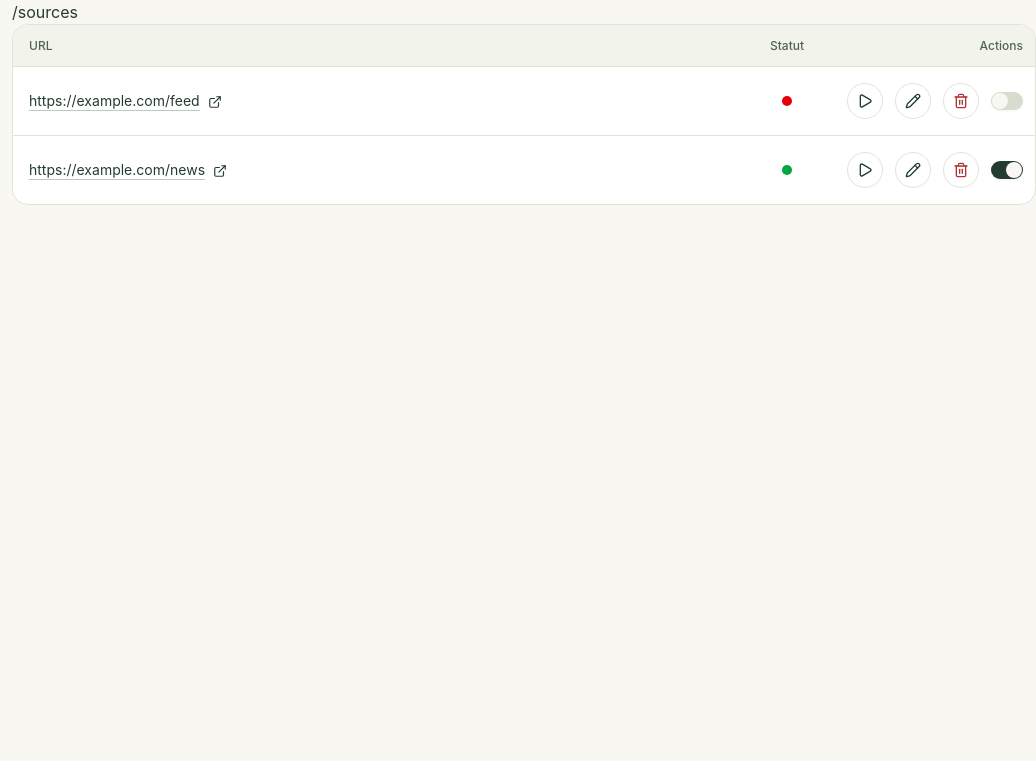
Test: edits a scraping URL without replacing its extraction configuration
Click the link named "Modifier https://example.com/news" at (913, 170), box [895,152,931,188]
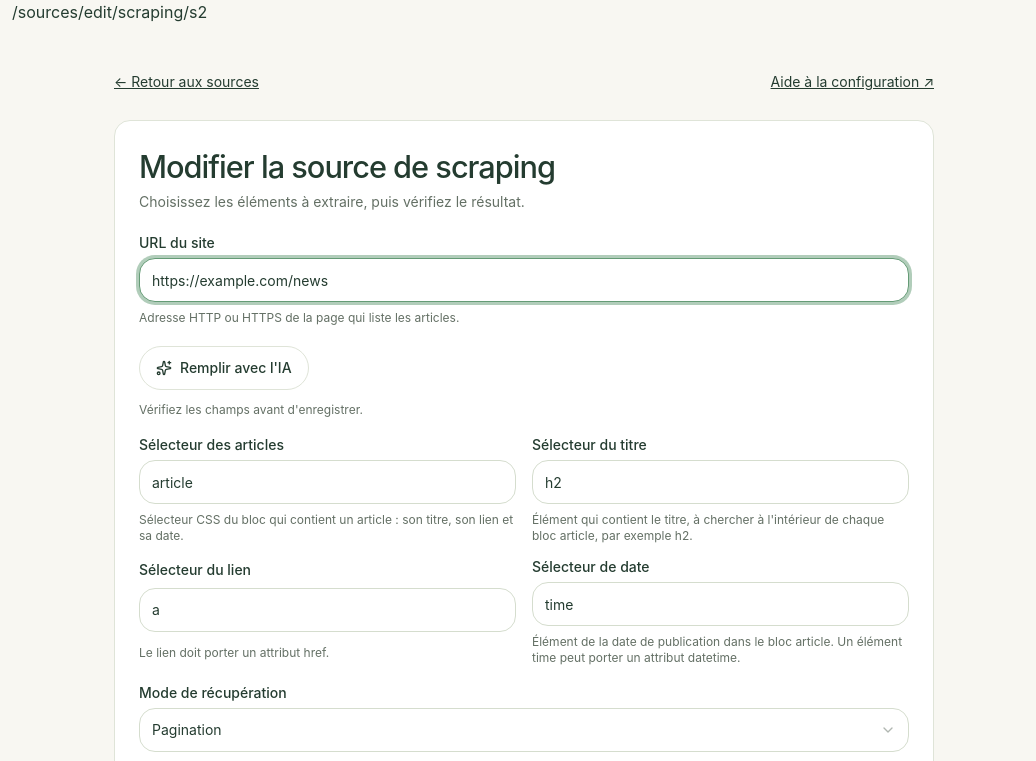
expect the field labelled "URL du site" holds "https://example.com/news": met
expect the text with test id "location" reads "/sources/edit/scraping/s2": met, box [12,2,207,22]
Replace the text in the field labelled "URL du site" with "https://example.com/new-news" at (524, 280), box [139,258,909,302]
(page scrolled)
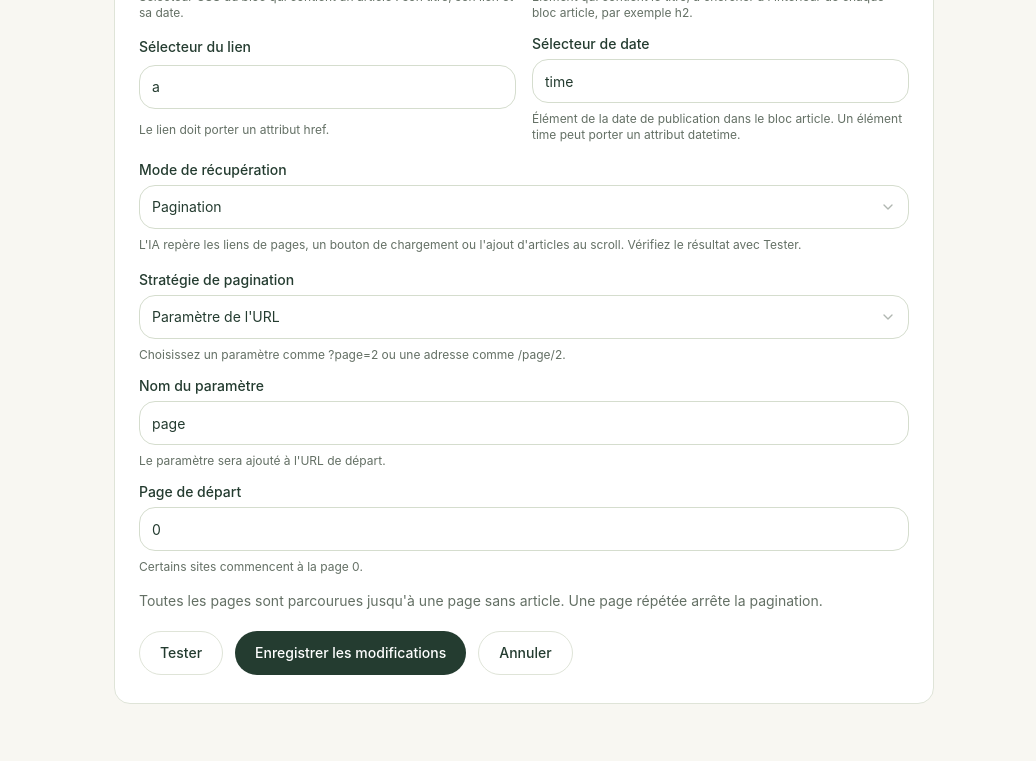
Click the button "Enregistrer les modifications" at (351, 653), box [235,631,466,675]
(page scrolled)
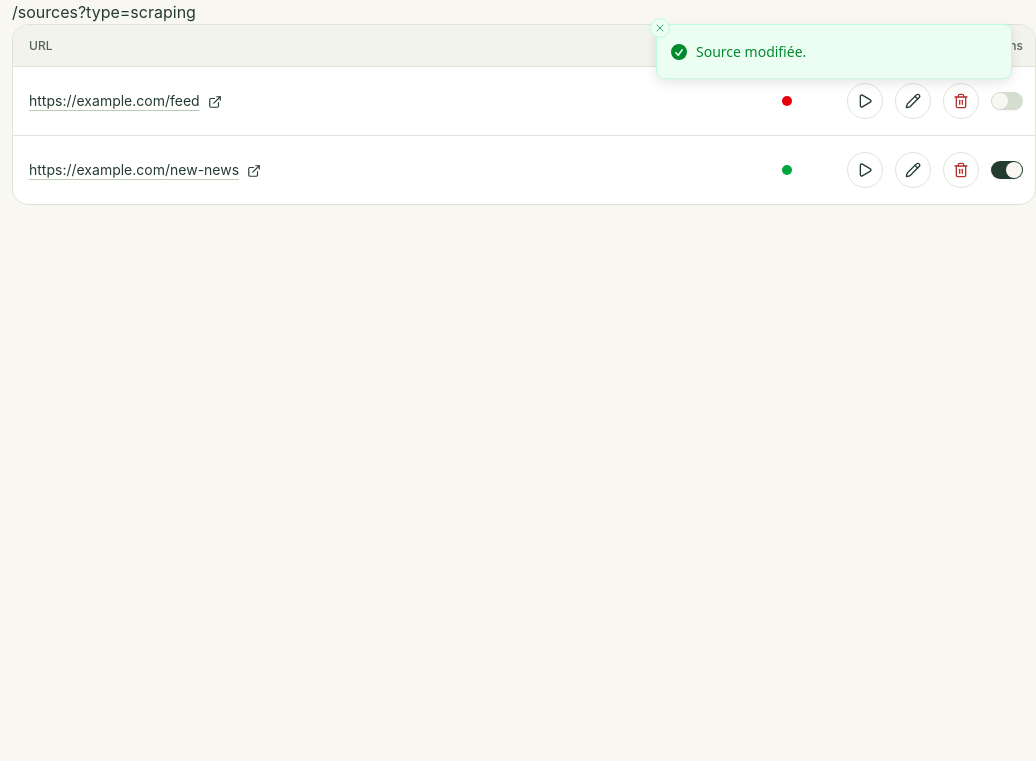
expect the text "Source modifiée." is shown: met, box [696,42,806,61]
expect the switch named "Activer https://example.com/new-news" is checked: met, box [991,161,1023,179]
